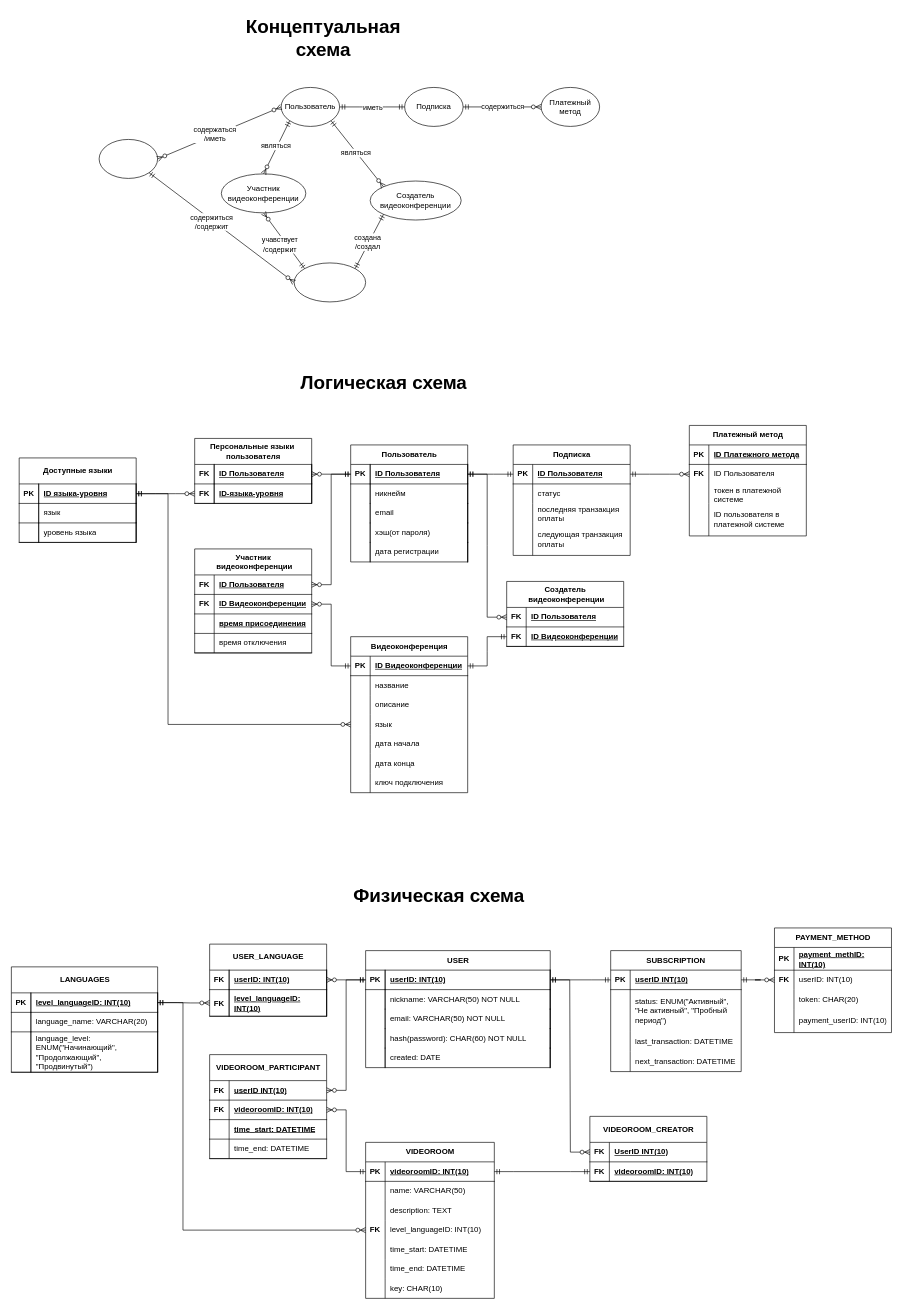
This 903x1310 diagram has some shape labels left out. Each missing label, with the centre of its shape:
"Видеоконфернция" goes at point (329, 282).
"Доступный язык" goes at point (128, 158).
